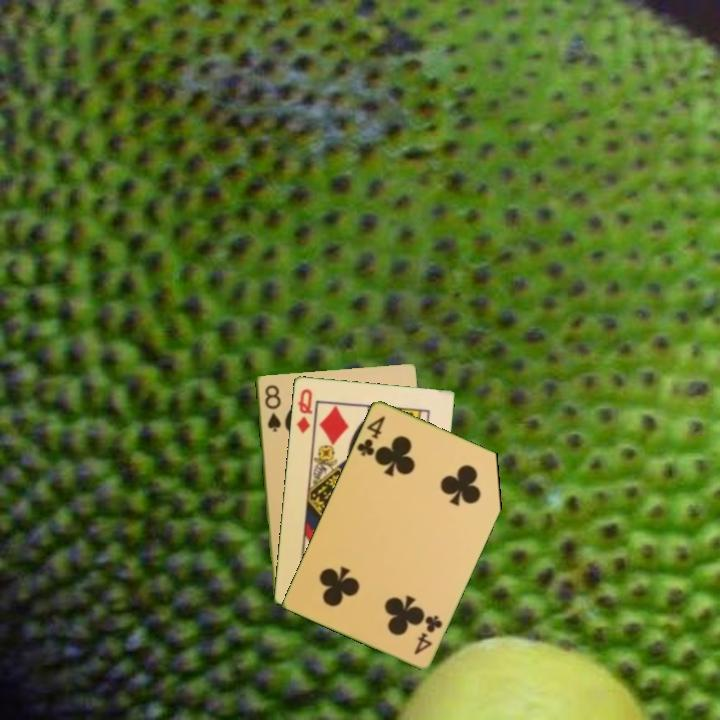4c: (353, 412, 388, 459), (410, 611, 445, 657)
8s: (261, 381, 284, 435)
Qd: (293, 385, 315, 436)
